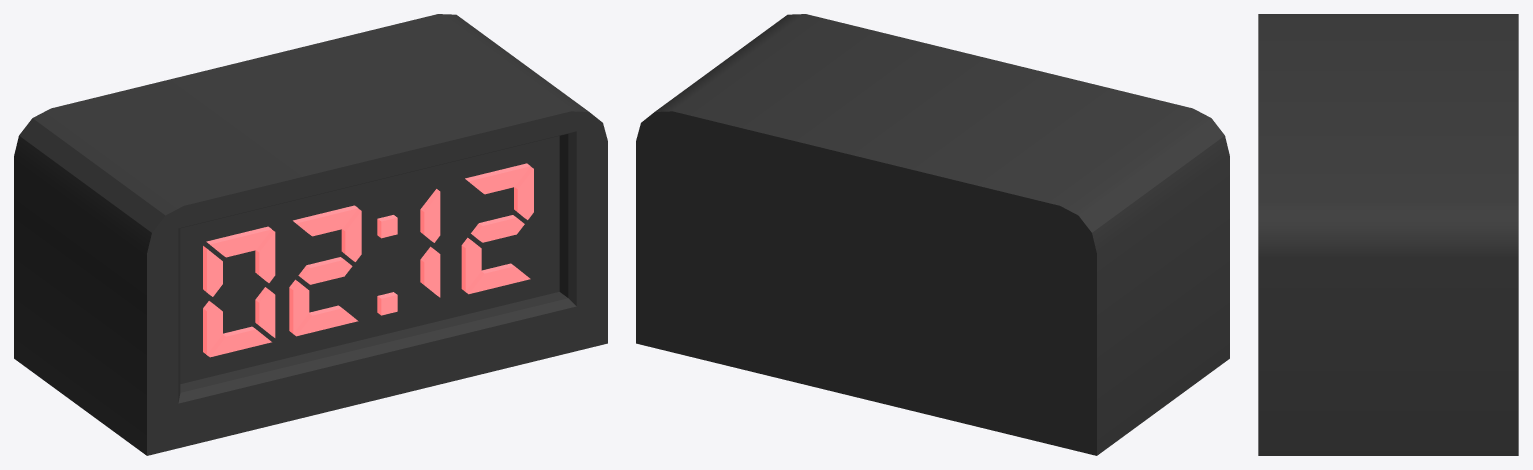
Rendered from DigitalClock_01.fbx.
3 renders of one model, left to right at view 1: azimuth 30°, elevation 25°; view 2: azimuth 150°, elevation 25°; view 3: azimuth 270°, elevation 25°, orthographic. The views are drawn at different scales.
Parts seen in each view (by area): view 1: Text; view 2: Text; view 3: Text.
Part boxes in pixels (bbox=[...]): Text: bbox=[14, 14, 607, 455]; Text: bbox=[636, 14, 1229, 455]; Text: bbox=[1258, 14, 1518, 455].
Size of the model in its own units: 2 by 1 by 1.
